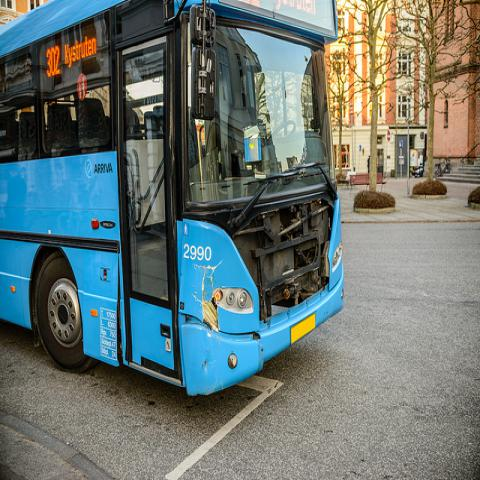bus: (2, 1, 345, 398)
